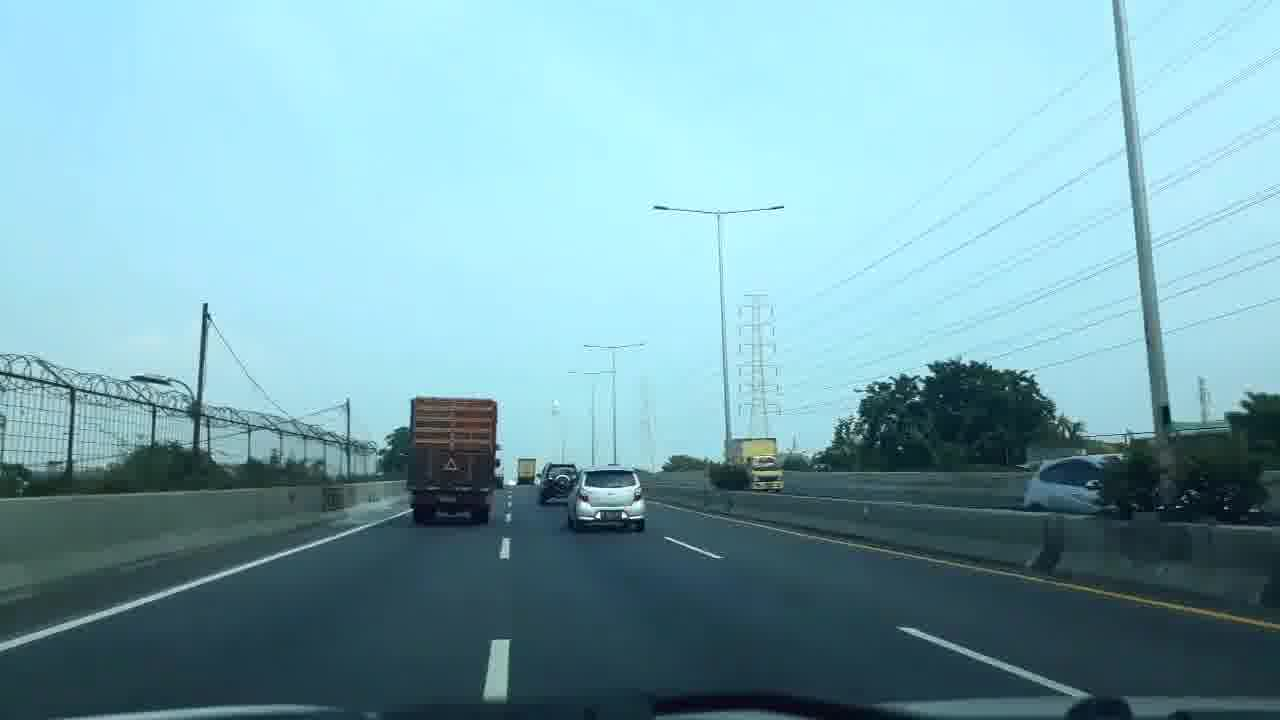plate_positive: (600, 511, 623, 520), (440, 495, 457, 502)
